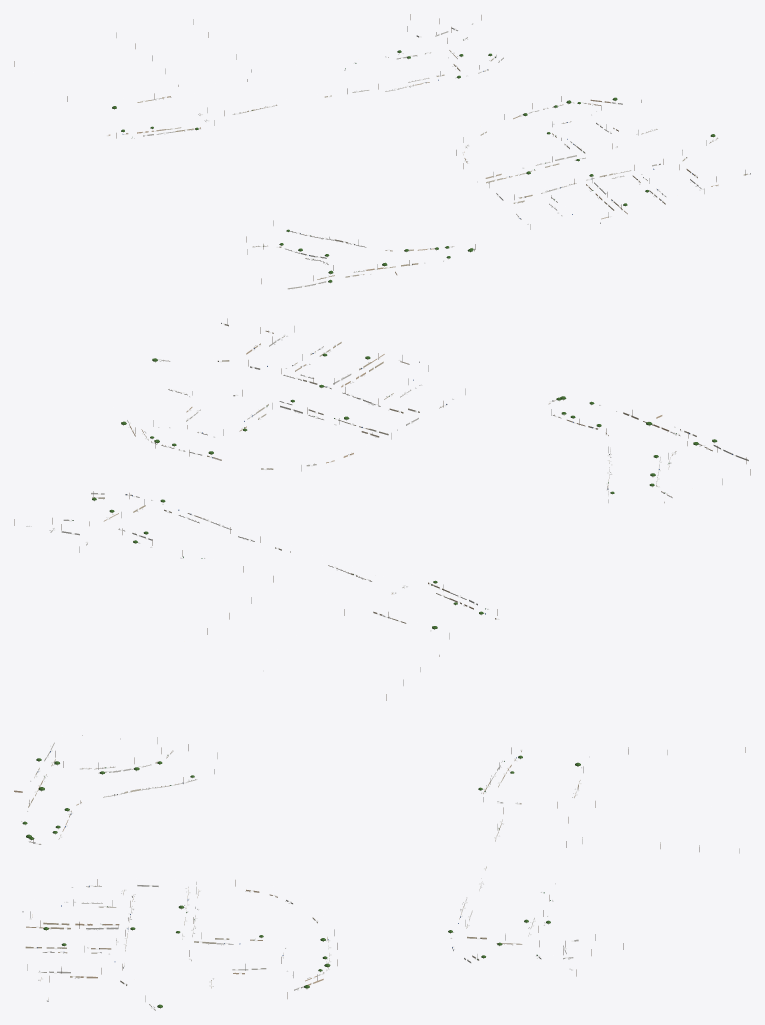
The model's file is nd_stm_m8_m7.glb.
3 renders of one model, top to bottom at view 1: azimuth 30°, elevation 25°; view 2: azimuth 150°, elevation 25°; view 3: azimuth 270°, elevation 25°, orthographic. The views are drawn at different scales.
Parts seen in each view (by area): view 1: nd_stm_m8_m7_lod0; view 2: nd_stm_m8_m7_lod0; view 3: nd_stm_m8_m7_lod0.
Part boxes in pixels (x1,y1,x2,y2): nd_stm_m8_m7_lod0: (14,14,750,289); nd_stm_m8_m7_lod0: (14,318,750,700); nd_stm_m8_m7_lod0: (14,735,745,1010).
Size of what is drawn, in the model's own units: 708 by 19.27 by 789.
